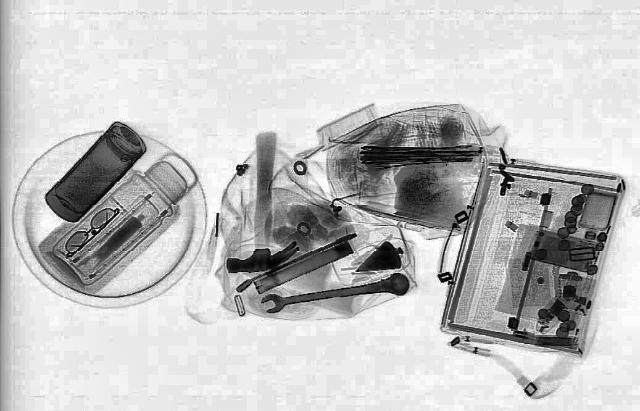Wrench: (256, 270, 414, 316)
